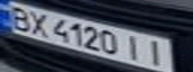0: (100, 28, 121, 56)
1: (63, 20, 84, 47)
2: (78, 24, 103, 52)
4: (48, 16, 72, 43)
B: (3, 3, 36, 32)
I: (142, 37, 172, 67), (121, 33, 148, 62)
X: (24, 10, 54, 37)
